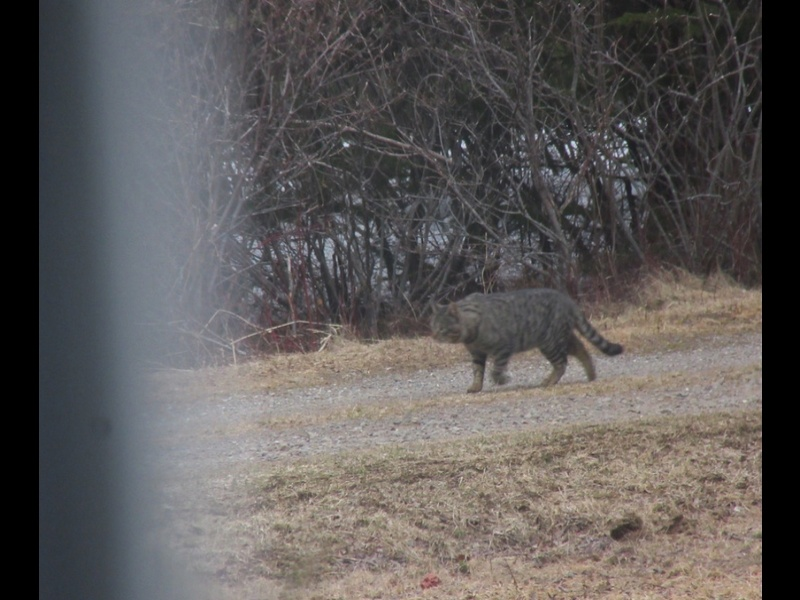cat: (421, 287, 629, 394)
